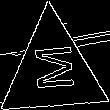M_W: (28, 45, 77, 96)
